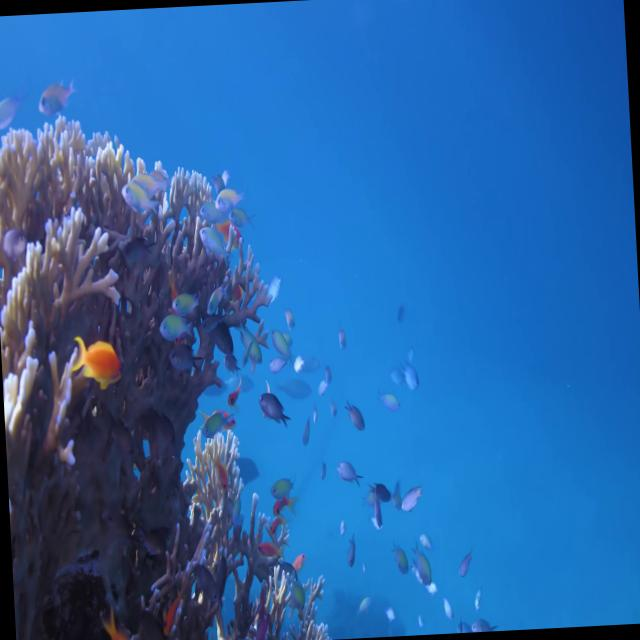fish: (68, 315, 142, 404), (338, 391, 369, 457), (331, 448, 365, 501), (256, 380, 290, 432), (406, 541, 440, 588), (398, 345, 422, 409), (396, 475, 431, 518), (338, 532, 362, 582), (387, 532, 413, 575), (372, 466, 394, 509), (364, 488, 384, 535)
